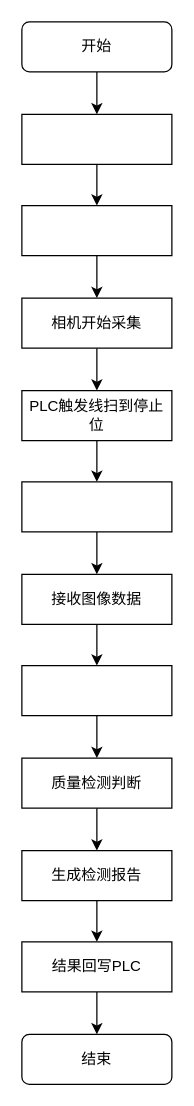
Image size: 194x1106. Some labels were removed from this diagram. The box of each missing label's shape, as (x1, y1, x2, y2) in pixels:
PLC触发线扫开始: (21, 113, 172, 164)
图像分析处理: (21, 664, 172, 716)
相机停止采集采集: (21, 481, 172, 532)
读取产品信息: (21, 204, 172, 256)
